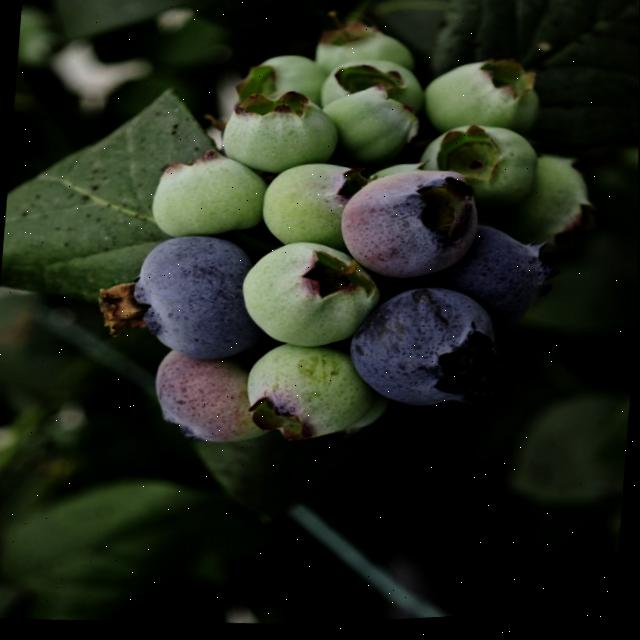RipeBlueBerry: (340, 281, 509, 421), (121, 226, 264, 369)
Semi-RipeBlueBerry: (332, 163, 485, 292)
UnripeBlueBerry: (233, 235, 388, 357)
